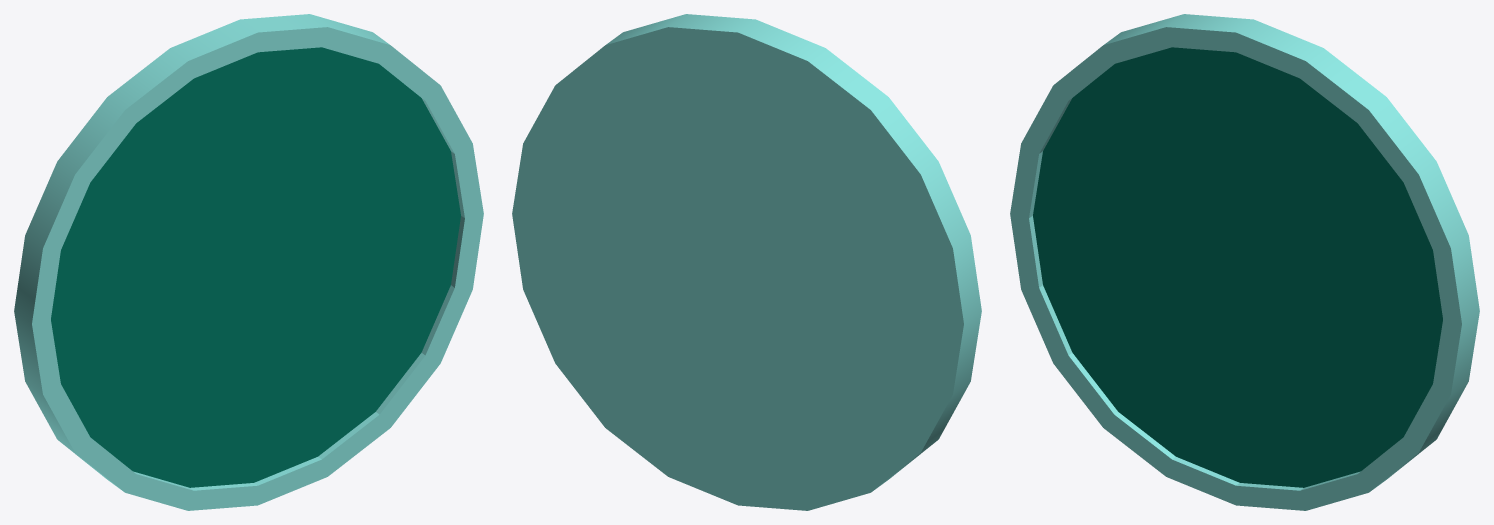
File: SM_Panneau_Neon_rond.fbx
The picture shows the model from 3 angles, left to right: view 1: azimuth 30°, elevation 25°; view 2: azimuth 150°, elevation 25°; view 3: azimuth 330°, elevation 25°; orthographic projection.
Visible parts, largest first — view 1: SM_Panneau_Neon_rond; view 2: SM_Panneau_Neon_rond; view 3: SM_Panneau_Neon_rond.
Boxes of the visible parts, left/top/right/bottom form: SM_Panneau_Neon_rond: left=14, top=14, right=483, bottom=510; SM_Panneau_Neon_rond: left=512, top=14, right=981, bottom=510; SM_Panneau_Neon_rond: left=1010, top=14, right=1479, bottom=510.
Size of the model in its own units: 2.41 by 2.41 by 0.1651.
